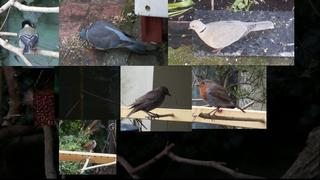collared dove: (188, 20, 274, 54)
dunnock: (78, 140, 96, 153)
great tit: (18, 20, 39, 55)
mouse: (22, 86, 34, 109)
robin: (194, 79, 246, 122)
starling: (126, 86, 172, 120)
wood pigeon: (79, 20, 148, 55)
